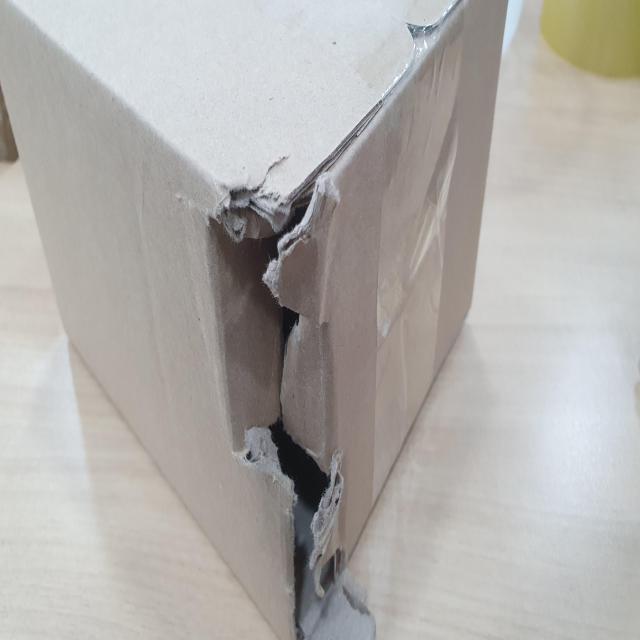damaged: (199, 168, 347, 635)
